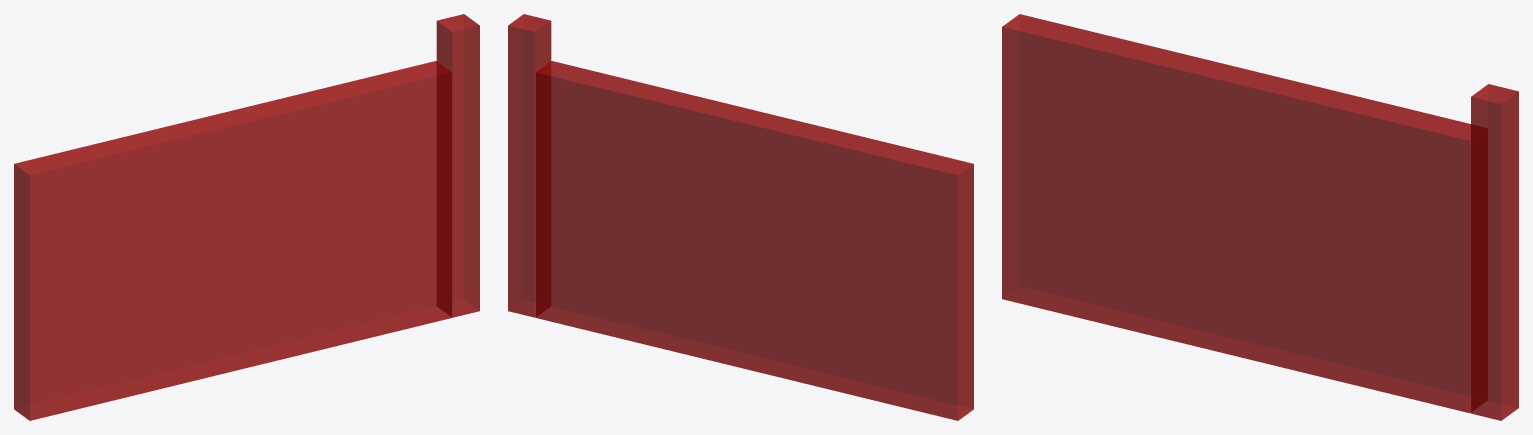
File: SM_Prop_Meadow_Fence_01_Collision.fbx
The picture shows the model from 3 angles, left to right: view 1: azimuth 30°, elevation 25°; view 2: azimuth 150°, elevation 25°; view 3: azimuth 330°, elevation 25°; orthographic projection. The views are drawn at different scales.
Visible parts, largest first — view 1: SM_Prop_Meadow_Fence_01_Collision; view 2: SM_Prop_Meadow_Fence_01_Collision; view 3: SM_Prop_Meadow_Fence_01_Collision.
Boxes of the visible parts, x1=… form: SM_Prop_Meadow_Fence_01_Collision: x1=14, y1=14, x2=479, y2=420; SM_Prop_Meadow_Fence_01_Collision: x1=508, y1=14, x2=973, y2=420; SM_Prop_Meadow_Fence_01_Collision: x1=1002, y1=14, x2=1518, y2=420.
Size of the model in its own units: 259 by 157 by 15.76.
